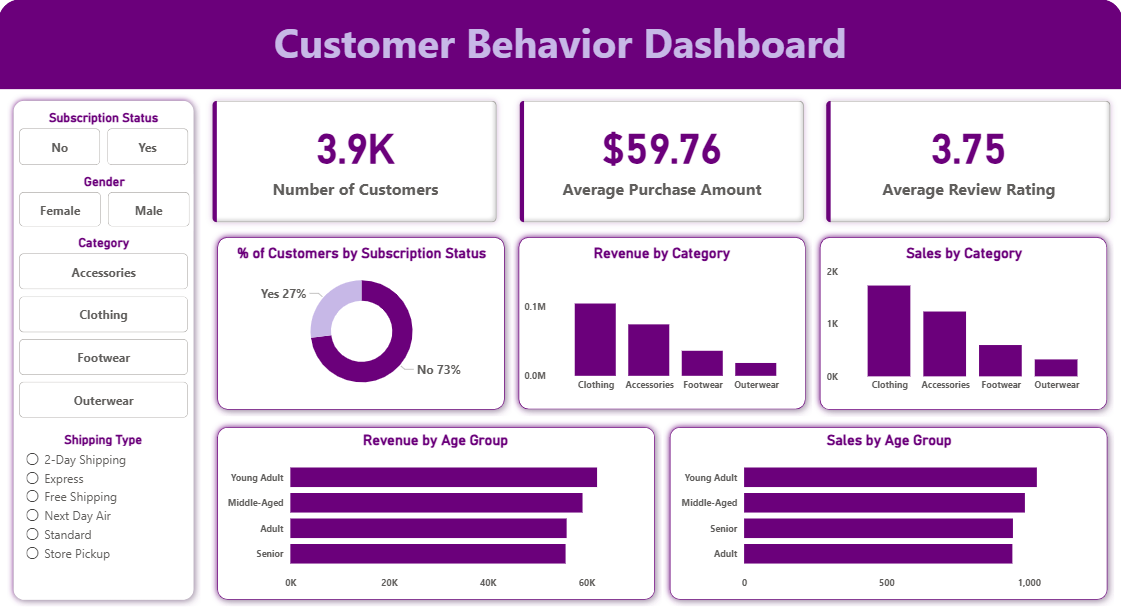

The page's visual inventory and layout, read from the dashboard file:
{"tool":"powerbi","page":{"name":"Page 1","canvas":[1500,820],"ordinal":0},"visuals":[{"type":"cardVisual","fields":{"Data":["public customer.Number of Customers","public customer.Average Purchase Amount","public customer.Average Review Rating"]},"box":[270.2,120.6,1230.2,194.6],"z":0},{"type":"shape","box":[0,0,1500,120.7],"z":1000},{"type":"textbox","box":[0,16.7,1500,103.3],"z":2000},{"type":"shape","box":[685.2,309,401,248],"z":3000},{"type":"clusteredColumnChart","title":"Revenue by Category","fields":{"Y":["Sum(public customer.purchase_amount_usd)"],"Category":["public customer.category"]},"box":[697.1,328.6,377.1,204.3],"z":4000},{"type":"shape","box":[283.6,309.1,401.4,248.2],"z":5000},{"type":"shape","box":[1086.5,308.8,401.2,248.8],"z":6000},{"type":"donutChart","title":"% of Customers by Subscription Status","fields":{"Category":["public customer.subscription_status"],"Y":["CountNonNull(public customer.customer_id)"]},"box":[305,328.3,360,208.3],"z":7000},{"type":"clusteredColumnChart","title":"Sales by Category","fields":{"Y":["CountNonNull(public customer.customer_id)"],"Category":["public customer.category"]},"box":[1100,328.3,376.7,205],"z":8000},{"type":"shape","box":[11.7,127.4,258.3,683.5],"z":9000},{"type":"advancedSlicerVisual","title":"Subscription Status","fields":{"Values":["public customer.subscription_status"]},"box":[24,148,235,78.5],"z":10000},{"type":"advancedSlicerVisual","title":"Gender","fields":{"Values":["public customer.gender"]},"box":[23,233,237,76],"z":11000},{"type":"advancedSlicerVisual","title":"Category","fields":{"Values":["public customer.category"]},"box":[22.7,315.5,235.5,250.9],"z":12000},{"type":"listSlicer","title":"Shipping Type","fields":{"Values":["public customer.shipping_type"]},"box":[32,576,217,224],"z":13000},{"type":"shape","box":[283.3,561.7,601.7,248.3],"z":15000},{"type":"clusteredBarChart","title":"Revenue by Age Group","fields":{"Y":["Sum(public customer.purchase_amount_usd)"],"Category":["public customer.age_group"]},"box":[300,576.7,566.7,220],"z":16000},{"type":"shape","box":[886.7,561.7,601.7,248.3],"z":16001},{"type":"clusteredBarChart","title":"Sales by Age Group","fields":{"Y":["CountNonNull(public customer.customer_id)"],"Category":["public customer.age_group"]},"box":[905,576.7,566.7,220],"z":16002}]}

Visuals, with their boxes in screenshot pixels (x1, y1, x2, y2), scaled from the page's 1500x820 canvas onto the 1121x611 screenshot:
cardVisual - public customer.Number of Customers x public customer.Average Purchase Amount: [202, 90, 1120, 235]
shape: [0, 0, 1120, 90]
textbox: [0, 12, 1120, 89]
shape: [512, 230, 812, 415]
"Revenue by Category" clusteredColumnChart: [521, 245, 803, 397]
shape: [212, 230, 512, 415]
shape: [812, 230, 1112, 415]
"% of Customers by Subscription Status" donutChart: [228, 245, 497, 400]
"Sales by Category" clusteredColumnChart: [822, 245, 1104, 397]
shape: [9, 95, 202, 604]
"Subscription Status" advancedSlicerVisual: [18, 110, 194, 169]
"Gender" advancedSlicerVisual: [17, 174, 194, 230]
"Category" advancedSlicerVisual: [17, 235, 193, 422]
"Shipping Type" listSlicer: [24, 429, 186, 596]
shape: [212, 419, 661, 604]
"Revenue by Age Group" clusteredBarChart: [224, 430, 648, 594]
shape: [663, 419, 1112, 604]
"Sales by Age Group" clusteredBarChart: [676, 430, 1100, 594]
